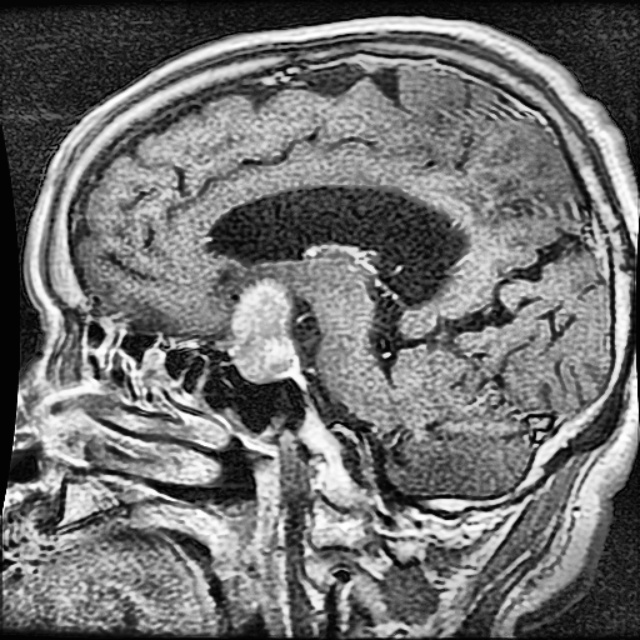Pituitary: (229, 277, 298, 379)
